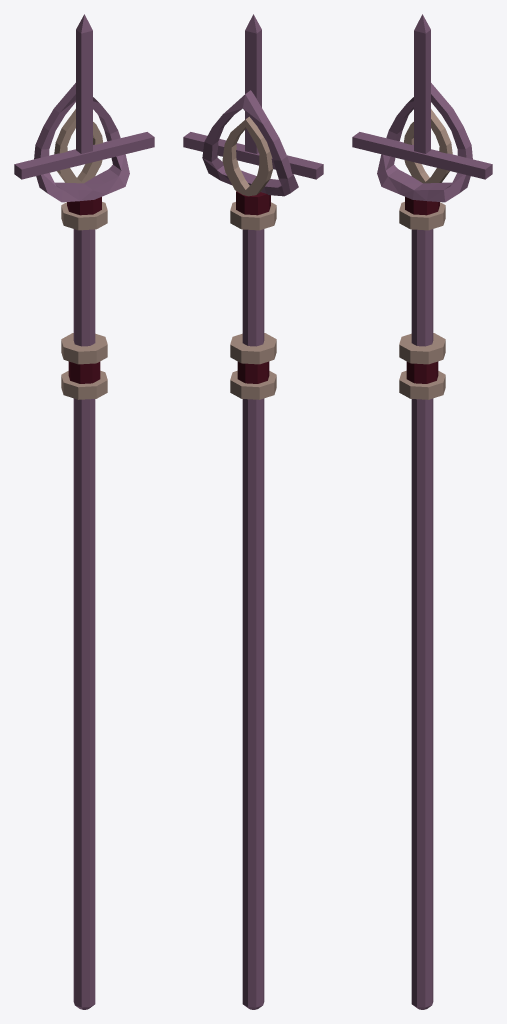
File: cane-2.glb
The picture shows the model from 3 angles, left to right: view 1: azimuth 30°, elevation 25°; view 2: azimuth 150°, elevation 25°; view 3: azimuth 330°, elevation 25°; orthographic projection.
Parts seen in each view (by area): view 1: cane_2; view 2: cane_2; view 3: cane_2.
Boxes of the visible parts, x1,y1,x2,y2 form: cane_2: [14, 14, 154, 1009]; cane_2: [183, 14, 323, 1009]; cane_2: [352, 14, 492, 1009].
Bounding box in the file's own units: 26.78 × 191 × 8.42.
Materials: 1 (1 with a texture image).
